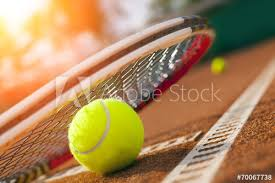tennis_ball: (68, 97, 144, 176), (208, 55, 227, 75)
